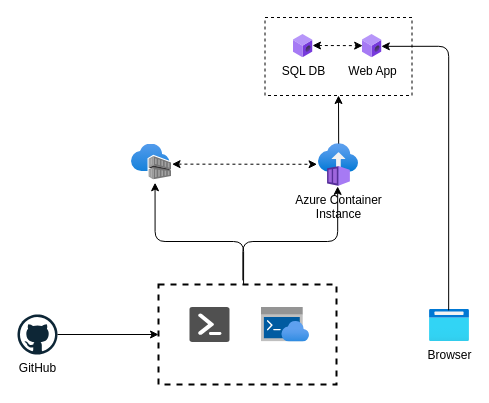
This 489x403 diagram has some shape labels left out. The shapes that lost their labels are listed below. From the top down, each one's centre as x and y in pixels, then its label:
the point at 151,162: Azure Container Registry Tasks
the point at 209,324: Azure CLI
the point at 285,324: Azure Cloud Shell
